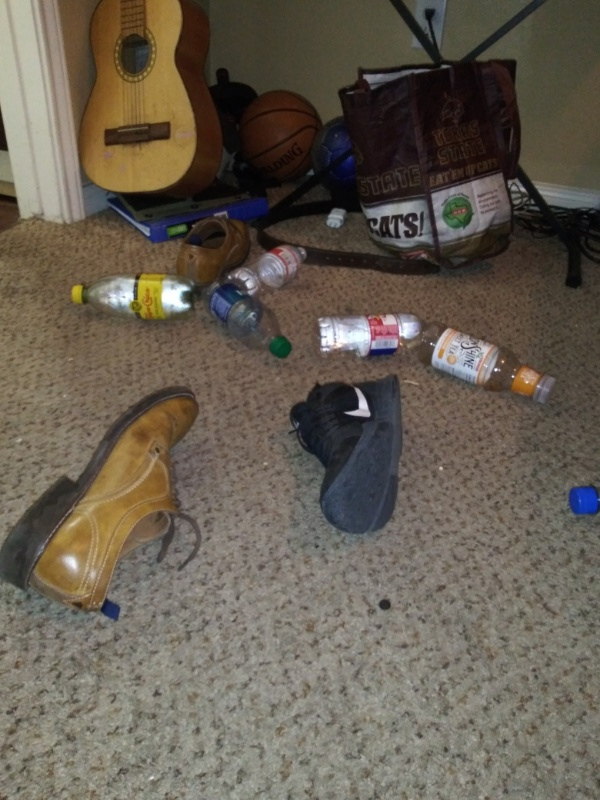bottle: (415, 322, 558, 409), (201, 282, 294, 365), (66, 271, 198, 327), (311, 313, 447, 359), (220, 239, 318, 300)
